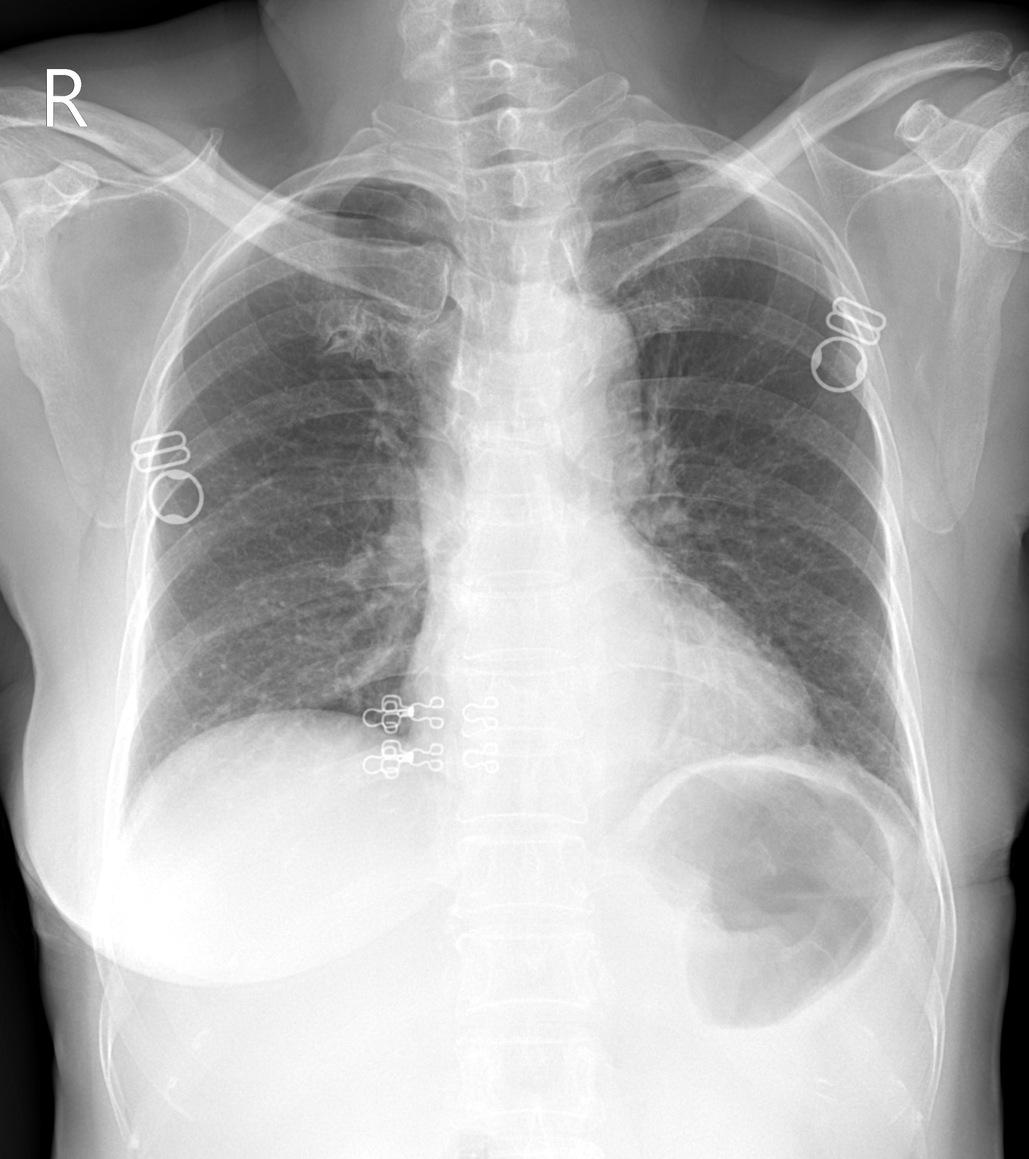Cardiomegaly: (388, 636, 836, 780), (509, 293, 646, 413)
Pleural thickening: (302, 163, 423, 192)
